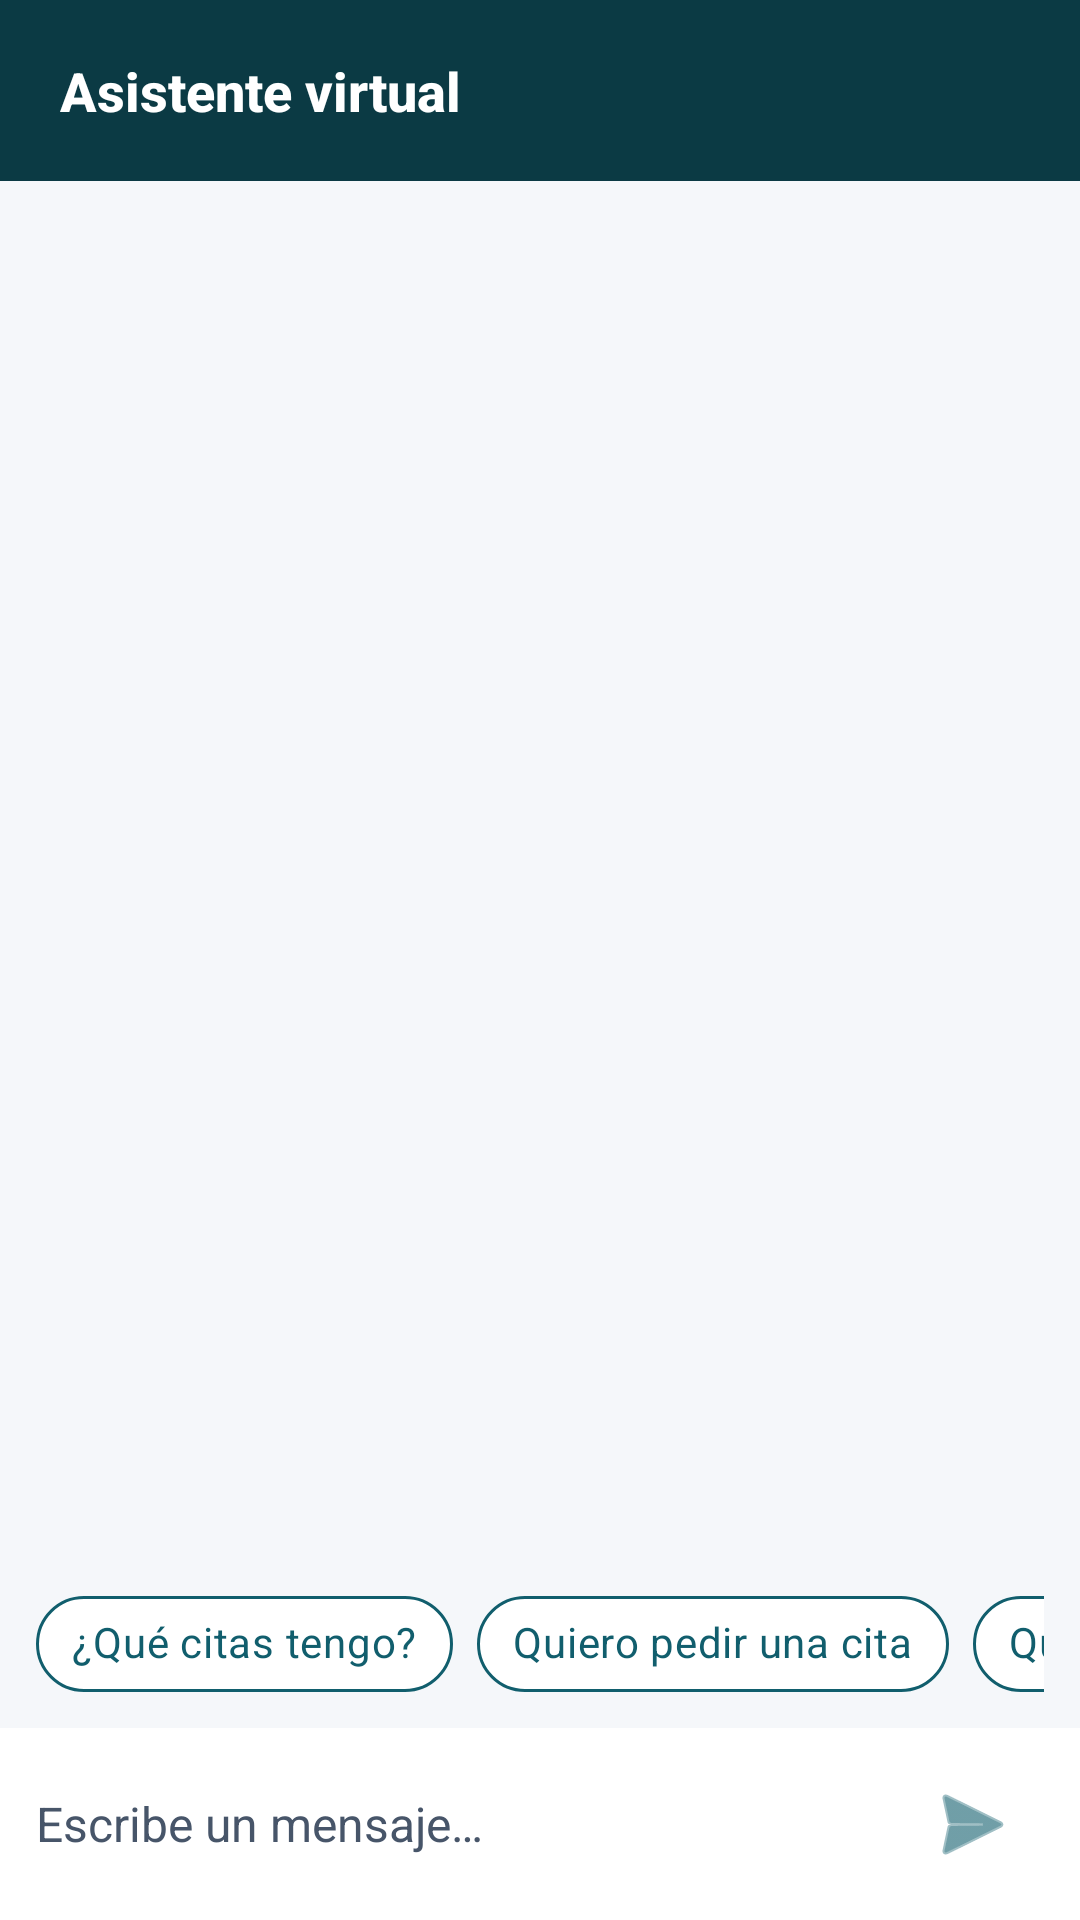

Locate icon controls on the screen. Image size 1080 x 1920, boxes as (x1,y1,x2,y2).
Enviar mensaje: (942,1794,1004,1855)
